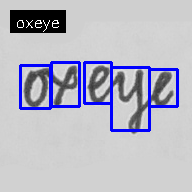e: (85, 63, 111, 105), (150, 67, 175, 109)
o: (21, 67, 48, 109)
x: (49, 63, 81, 108)
y: (113, 65, 146, 135)
